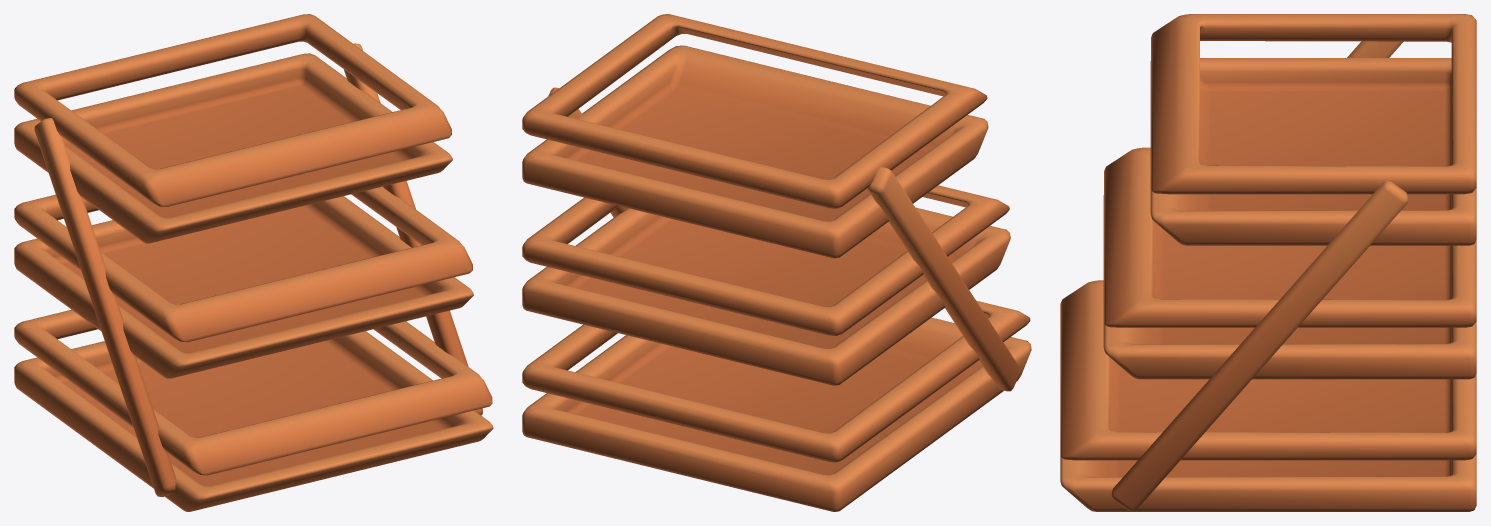
File: FruitTable.fbx
3 renders of one model, left to right at view 1: azimuth 30°, elevation 25°; view 2: azimuth 150°, elevation 25°; view 3: azimuth 270°, elevation 25°, orthographic. The views are drawn at different scales.
Visible parts, largest first — view 1: FruitCase; view 2: FruitCase; view 3: FruitCase.
Boxes of the visible parts, box(x1,y1,x2,y2) form: FruitCase: box(14, 14, 493, 511); FruitCase: box(522, 14, 1031, 511); FruitCase: box(1060, 14, 1476, 511).
Bounding box in the file's own units: 0.3085 × 0.2806 × 0.3112.
